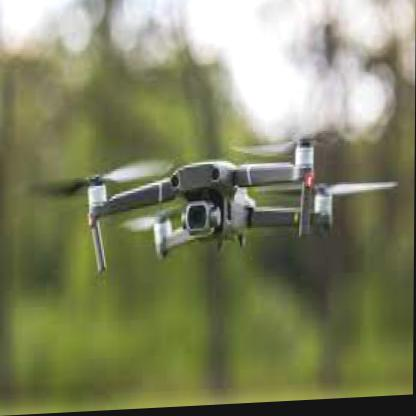UAS: (27, 132, 399, 278)
